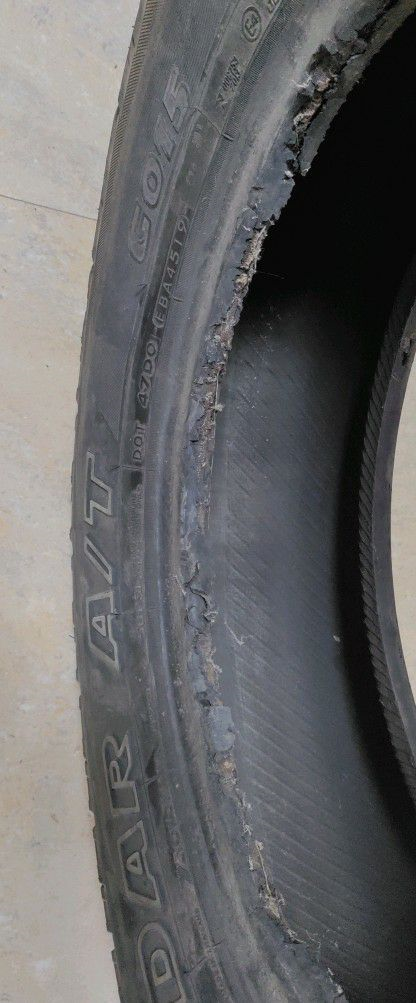bead_damage: (146, 5, 415, 1002)
